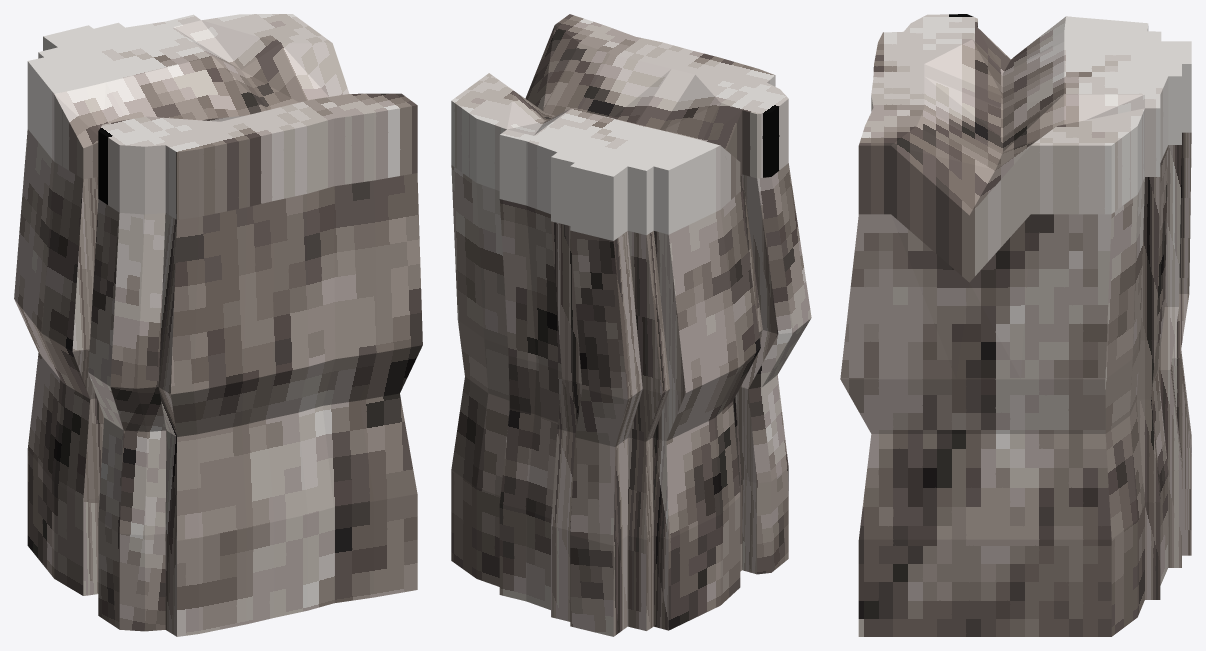
File: boulder_342x00.gltf
The picture shows the model from 3 angles, left to right: view 1: azimuth 30°, elevation 25°; view 2: azimuth 150°, elevation 25°; view 3: azimuth 270°, elevation 25°; orthographic projection. The views are drawn at different scales.
Parts seen in each view (by area): view 1: boulder_342x0; view 2: boulder_342x0; view 3: boulder_342x0.
Boxes of the visible parts, bbox=[...] form: boulder_342x0: bbox=[14, 14, 422, 636]; boulder_342x0: bbox=[451, 14, 811, 636]; boulder_342x0: bbox=[840, 14, 1191, 636].
Size of the model in its own units: 2.6 by 4.26 by 2.76.
1 material, 1 textured.
